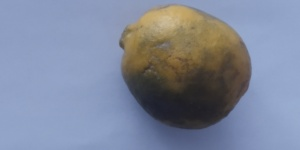BAD: (116, 4, 255, 130)
